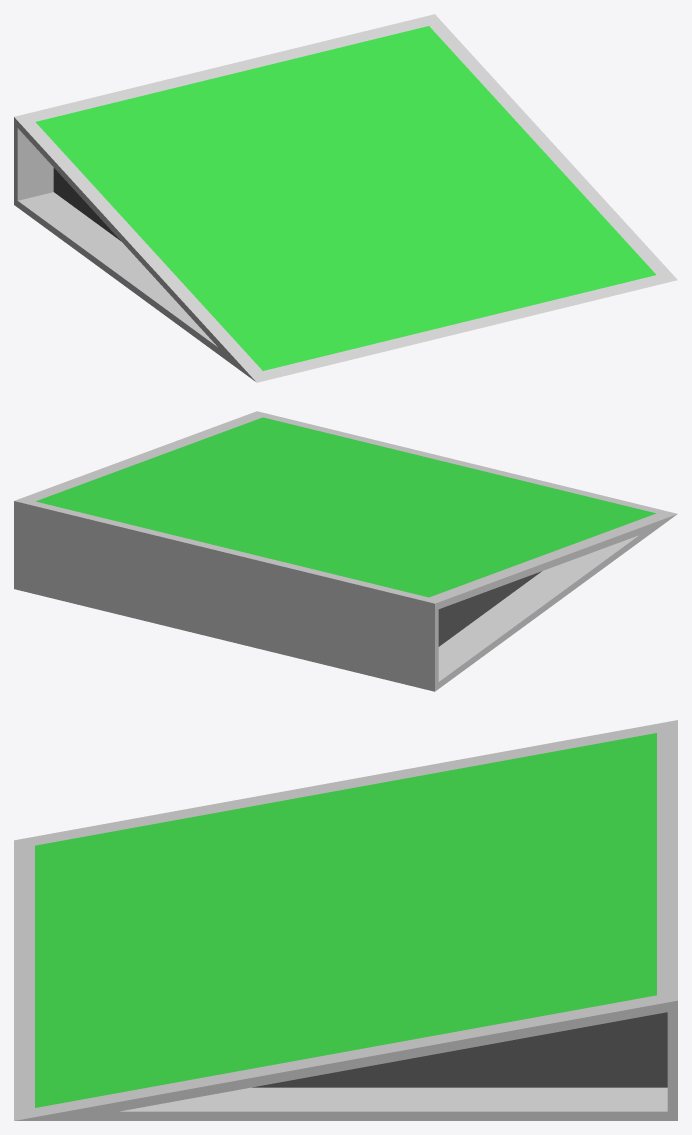
Rendered from FloorBasic00_2.5x2.5Ramp.fbx.
3 renders of one model, top to bottom at view 1: azimuth 30°, elevation 25°; view 2: azimuth 150°, elevation 25°; view 3: azimuth 270°, elevation 25°, orthographic. The views are drawn at different scales.
Visible parts, largest first — view 1: FloorBasic00_2.5x2.5Ramp; view 2: FloorBasic00_2.5x2.5Ramp; view 3: FloorBasic00_2.5x2.5Ramp.
Part boxes in pixels (box(x1,y1,x2,y2)): FloorBasic00_2.5x2.5Ramp: box(14, 14, 677, 382); FloorBasic00_2.5x2.5Ramp: box(14, 411, 677, 691); FloorBasic00_2.5x2.5Ramp: box(14, 720, 677, 1120).
Bounding box in the file's own units: 250 × 50 × 250.
